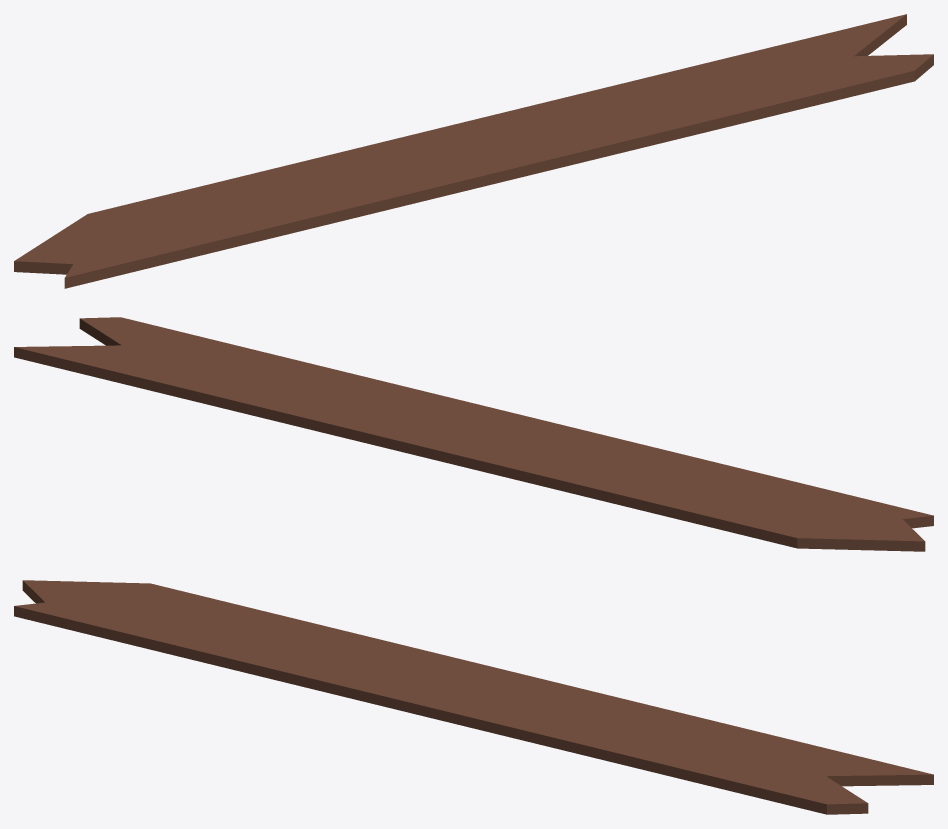
Rendered from Wooden_001.fbx.
3 views of the same model, one above another, from view 1: azimuth 30°, elevation 25°; view 2: azimuth 150°, elevation 25°; view 3: azimuth 330°, elevation 25° (orthographic). The views are drawn at different scales.
Visible parts, largest first — view 1: Wooden_001; view 2: Wooden_001; view 3: Wooden_001.
Part boxes in pixels (x1,y1,x2,y2): Wooden_001: (14,14,933,288); Wooden_001: (14,317,933,551); Wooden_001: (14,580,933,814).
Size of the model in its own units: 89 by 1 by 10.
